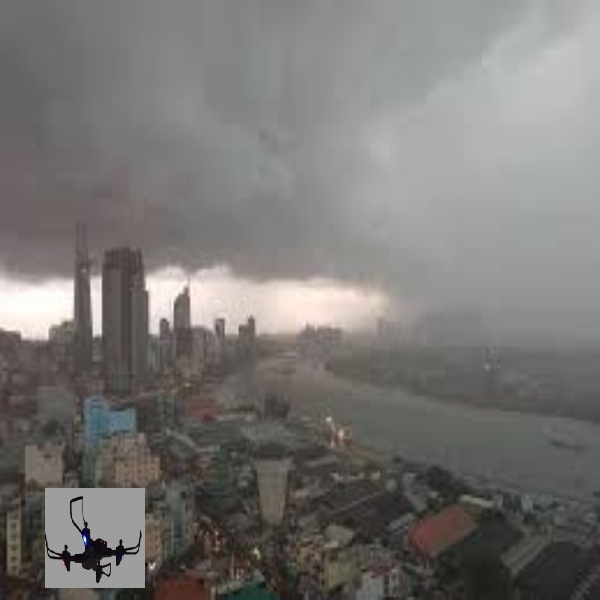drone: (47, 490, 148, 590)
